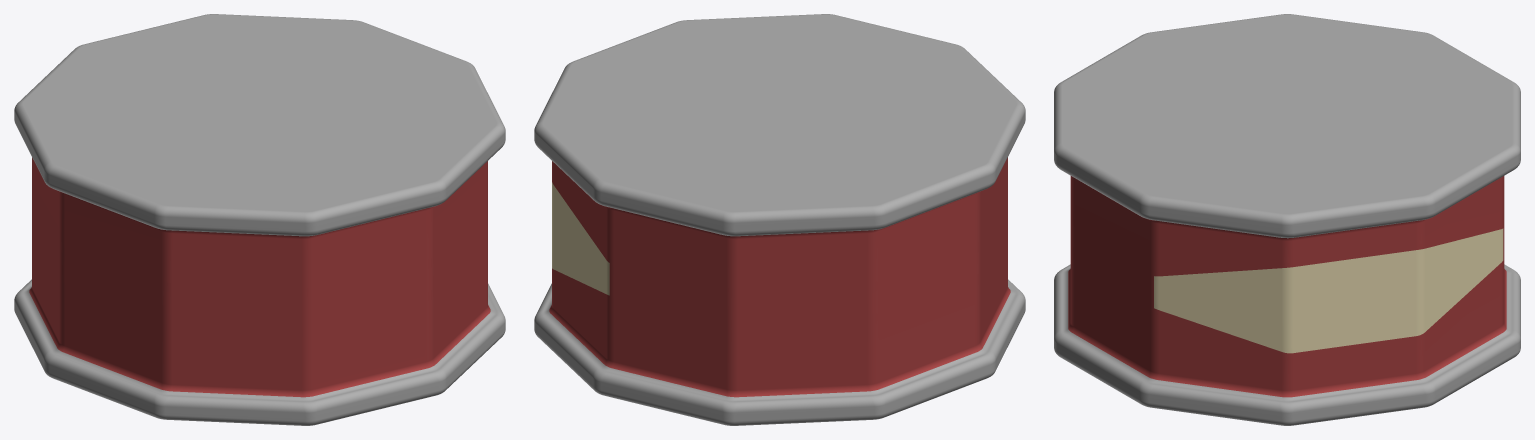
File: CannedFood.fbx
3 renders of one model, left to right at view 1: azimuth 30°, elevation 25°; view 2: azimuth 150°, elevation 25°; view 3: azimuth 270°, elevation 25°, orthographic.
Visible parts, largest first — view 1: pCylinder1; view 2: pCylinder1; view 3: pCylinder1.
Part boxes in pixels (left/top/right/bottom): pCylinder1: left=14, top=14, right=505, bottom=425; pCylinder1: left=534, top=14, right=1025, bottom=425; pCylinder1: left=1054, top=14, right=1520, bottom=425.
Size of the model in its own units: 1.99 by 0.949 by 1.9.
